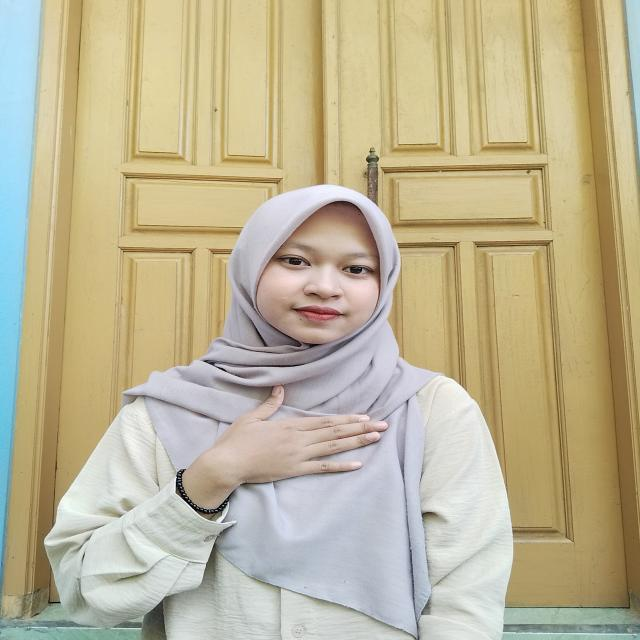tolong: (134, 382, 398, 519)
